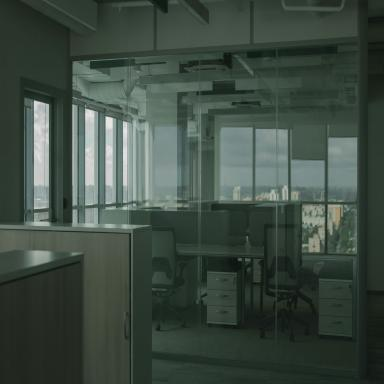glass_panel: (25, 94, 51, 219), (220, 126, 252, 200), (154, 126, 178, 207), (328, 136, 357, 202), (255, 129, 281, 200), (183, 96, 198, 204), (328, 204, 357, 253), (83, 106, 96, 212), (292, 160, 325, 201), (302, 204, 326, 253), (186, 120, 200, 202), (137, 122, 150, 206), (122, 118, 134, 206), (105, 114, 116, 207), (72, 102, 79, 210)
